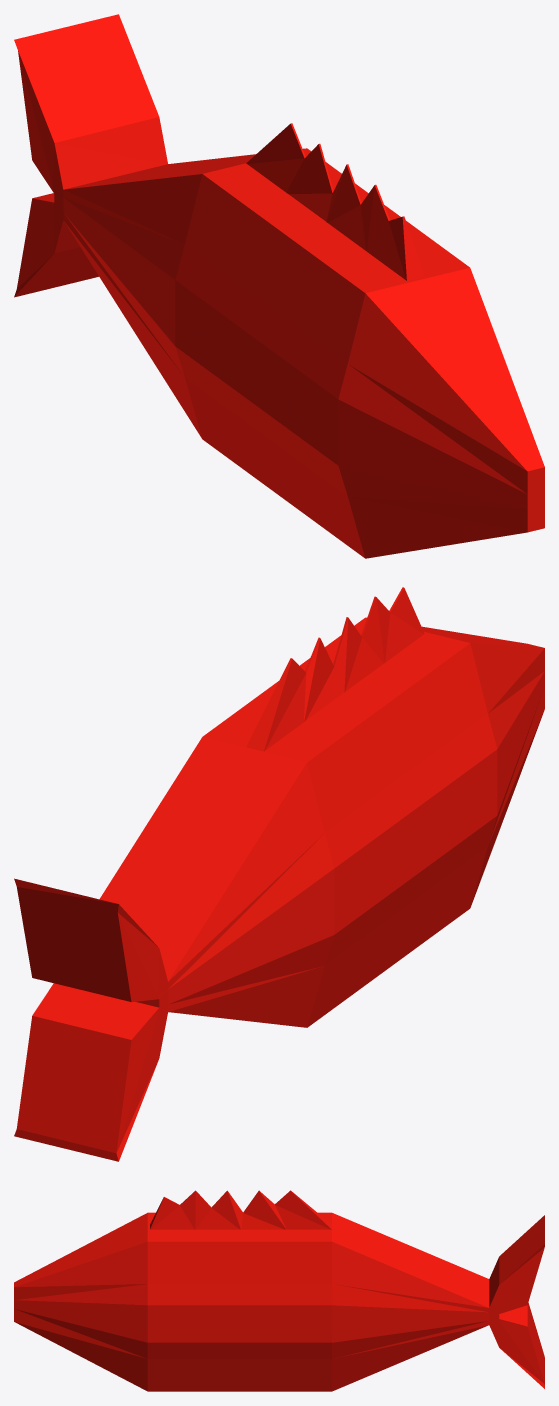
The model's file is suimii.obj.
3 renders of one model, top to bottom at view 1: azimuth 30°, elevation 25°; view 2: azimuth 150°, elevation 25°; view 3: azimuth 270°, elevation 25°, orthographic. The views are drawn at different scales.
Visible parts, largest first — view 1: 立方体, 立方体.001; view 2: 立方体, 立方体.001; view 3: 立方体, 立方体.001.
Boxes of the visible parts, x1=… form: 立方体: x1=14, y1=14, x2=544, y2=558; 立方体.001: x1=246, y1=123, x2=424, y2=280; 立方体: x1=14, y1=617, x2=544, y2=1161; 立方体.001: x1=246, y1=587, x2=424, y2=751; 立方体: x1=14, y1=1212, x2=544, y2=1391; 立方体.001: x1=150, y1=1190, x2=331, y2=1229.
Size of the model in its own units: 1.25 by 2.49 by 6.42.
Materials: 2 (2 with a texture image).
